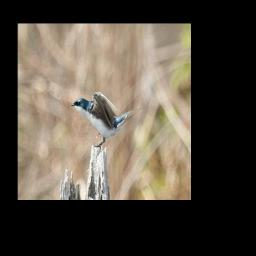Swallow: (70, 90, 142, 148)
